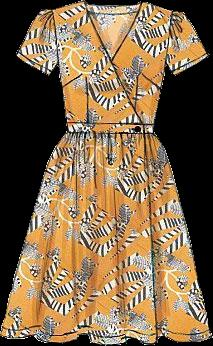Bodice: (51, 1, 172, 134)
Hemline: (0, 331, 212, 345)
Neckline: (82, 1, 143, 62), (65, 120, 153, 125)
Skirt: (0, 130, 211, 345)
Sleeve: (166, 11, 209, 75), (16, 9, 57, 75)
Sleeveline: (165, 12, 176, 65), (50, 10, 58, 65)
Waistline: (66, 128, 153, 137)
